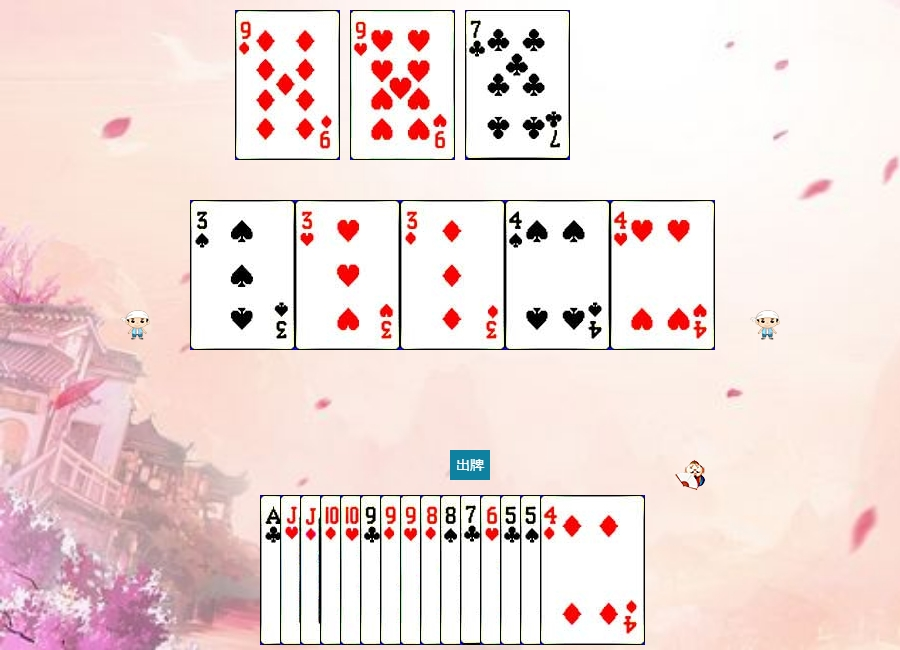10~1: (320, 495, 425, 645)
10~3: (340, 495, 445, 645)
11~1: (300, 495, 405, 645)
11~3: (280, 495, 385, 645)
14~2: (260, 495, 365, 645)
3~1: (400, 200, 505, 350)
3~3: (295, 200, 400, 350)
3~4: (190, 200, 295, 350)
4~1: (540, 495, 645, 645)
4~3: (610, 200, 715, 350)
4~4: (505, 200, 610, 350)
5~2: (500, 495, 605, 645)
5~4: (520, 495, 625, 645)
6~3: (480, 495, 585, 645)
7~2: (465, 10, 570, 160), (460, 495, 565, 645)
8~1: (420, 495, 525, 645)
8~4: (440, 495, 545, 645)
9~1: (235, 10, 340, 160), (380, 495, 485, 645)
9~2: (360, 495, 465, 645)
9~3: (350, 10, 455, 160), (400, 495, 505, 645)
